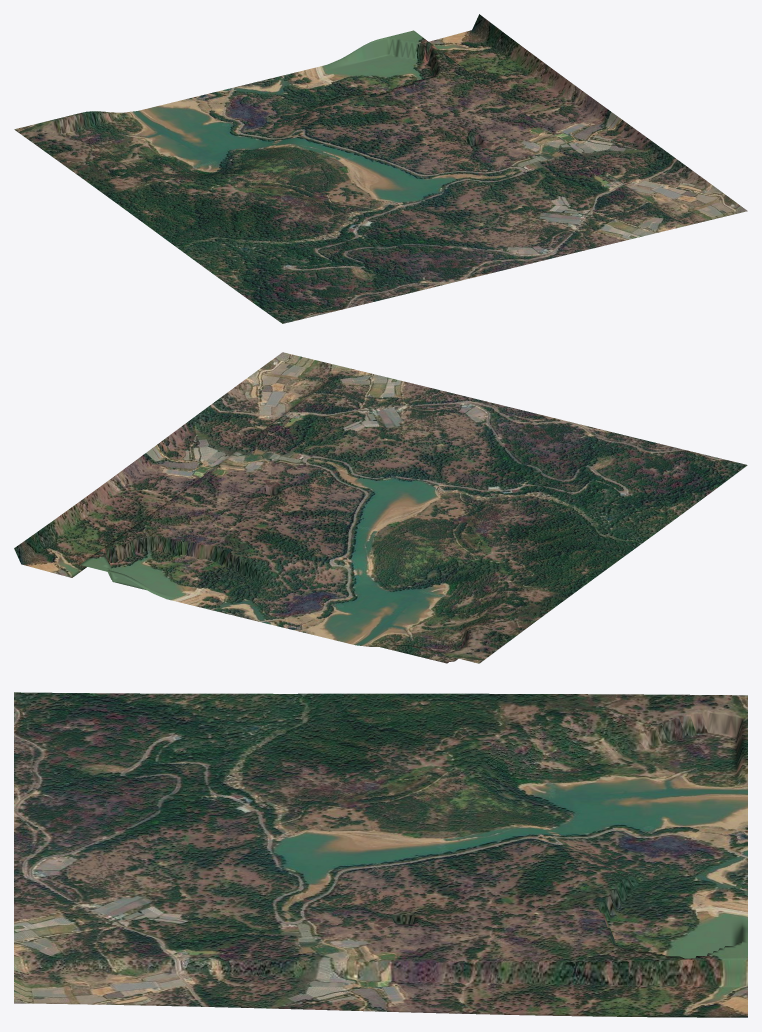
File: terrain_real_T_W04_N03.glb
3 renders of one model, top to bottom at view 1: azimuth 30°, elevation 25°; view 2: azimuth 150°, elevation 25°; view 3: azimuth 270°, elevation 25°, orthographic. The views are drawn at different scales.
Parts seen in each view (by area): view 1: Terrain_Real_DEM_T_W04_N03; view 2: Terrain_Real_DEM_T_W04_N03; view 3: Terrain_Real_DEM_T_W04_N03.
Boxes of the visible parts, x1,y1,x2,y2 form: Terrain_Real_DEM_T_W04_N03: [14, 14, 747, 323]; Terrain_Real_DEM_T_W04_N03: [14, 352, 747, 663]; Terrain_Real_DEM_T_W04_N03: [14, 692, 747, 1017].
Bounding box in the file's own units: 2000 × 64.81 × 2000.
Materials: 1 (1 with a texture image).
